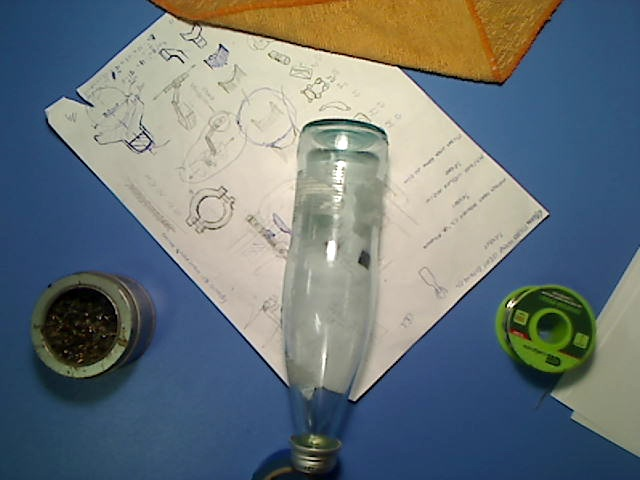bottle: (279, 118, 389, 476)
